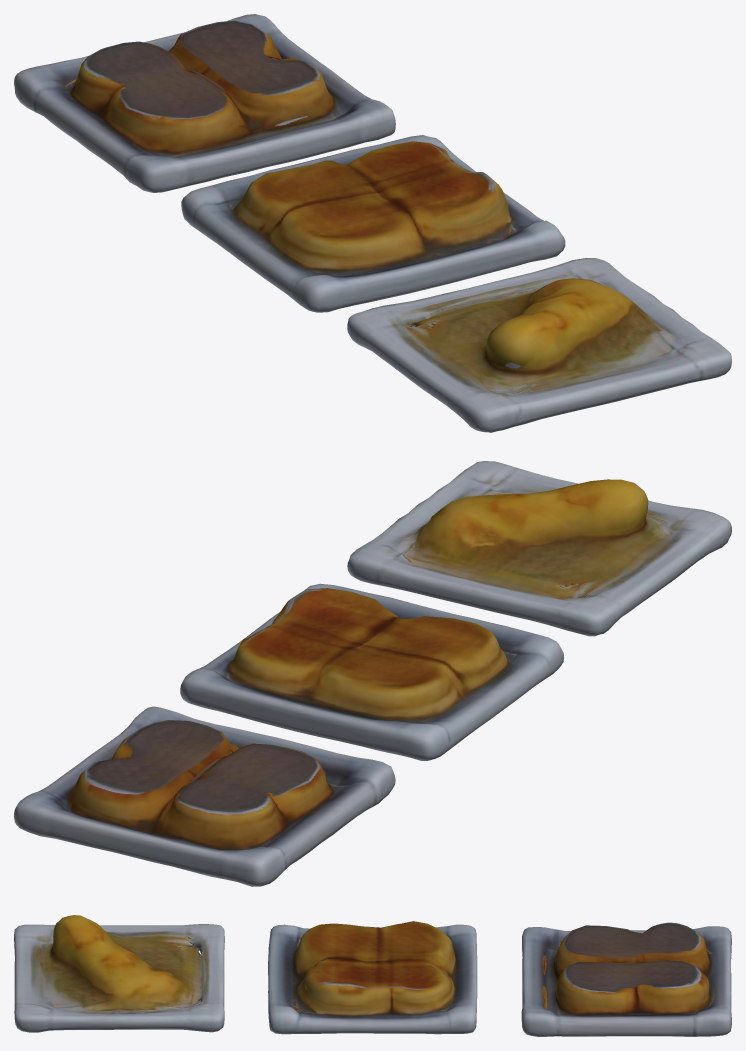
Rendered from Repisa2.obj.
3 views of the same model, one above another, from view 1: azimuth 30°, elevation 25°; view 2: azimuth 150°, elevation 25°; view 3: azimuth 270°, elevation 25° (orthographic). The views are drawn at different scales.
Parts seen in each view (by area): view 1: Repisa2; view 2: Repisa2; view 3: Repisa2.
Boxes of the visible parts, box(x1,y1,x2,y2) form: Repisa2: box(14, 14, 731, 432); Repisa2: box(14, 461, 731, 886); Repisa2: box(14, 915, 731, 1036).
Size of the model in its own units: 3.05 by 0.831 by 9.71.
1 material, 1 textured.
